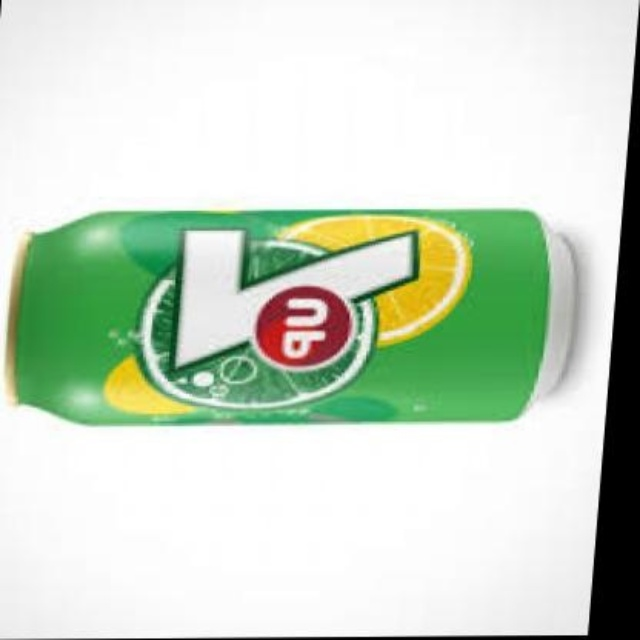trash: (9, 209, 574, 422)
